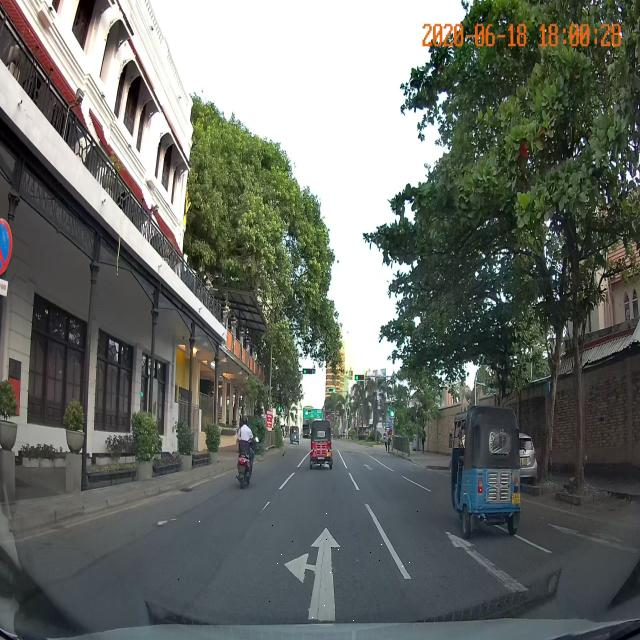forward_lft: (178, 503, 437, 625), (192, 533, 427, 603), (216, 520, 411, 574)
